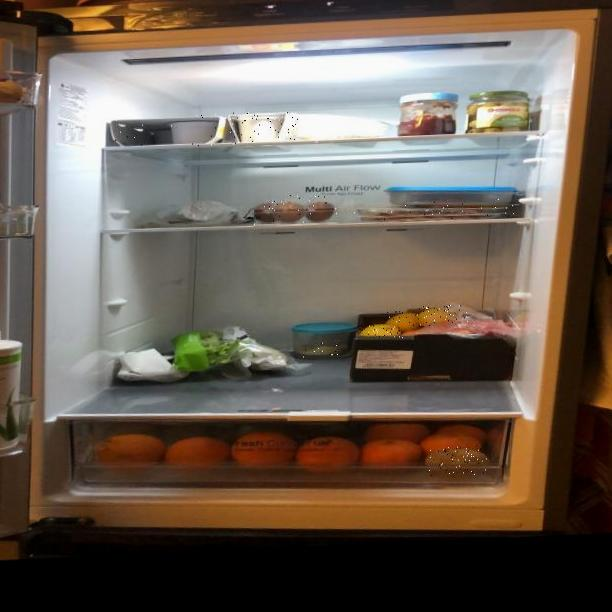cheese: (299, 342, 342, 358)
eggs: (254, 193, 338, 227)
ham: (352, 198, 515, 226)
lemon: (418, 304, 468, 327), (360, 323, 403, 340), (386, 311, 420, 332)
potatoes: (427, 445, 487, 477)
yoghurt: (115, 114, 229, 150), (226, 109, 302, 145)
